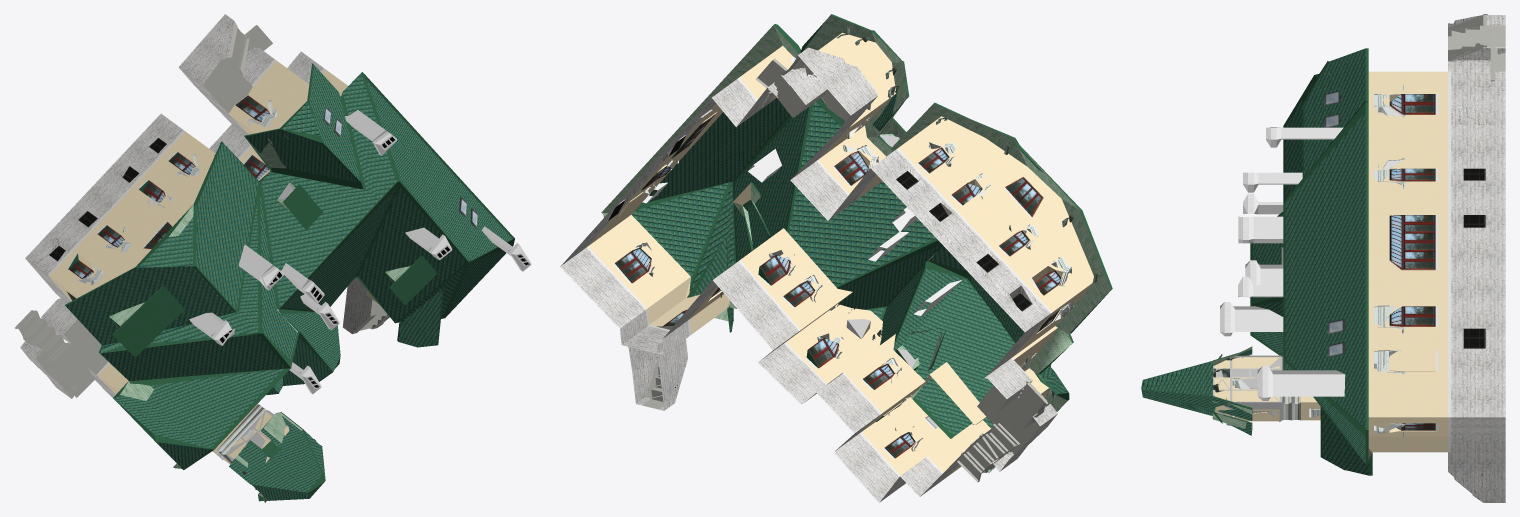
The model's file is Rannamae_tee_3a-origo.obj.
3 renders of one model, left to right at view 1: azimuth 30°, elevation 25°; view 2: azimuth 150°, elevation 25°; view 3: azimuth 270°, elevation 25°, orthographic. The views are drawn at different scales.
Parts seen in each view (by area): view 1: Rannamae_tee_3a; view 2: Rannamae_tee_3a; view 3: Rannamae_tee_3a.
Boxes of the visible parts, bbox=[...] form: Rannamae_tee_3a: bbox=[15, 14, 531, 502]; Rannamae_tee_3a: bbox=[560, 14, 1112, 502]; Rannamae_tee_3a: bbox=[1141, 14, 1505, 502].
Size of the model in its own units: 33.69 by 28 by 19.96.
